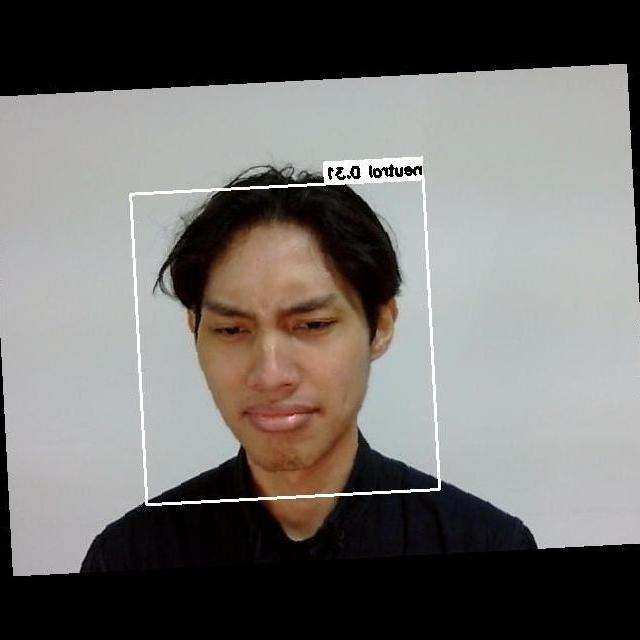Disgust: (199, 281, 375, 461)
